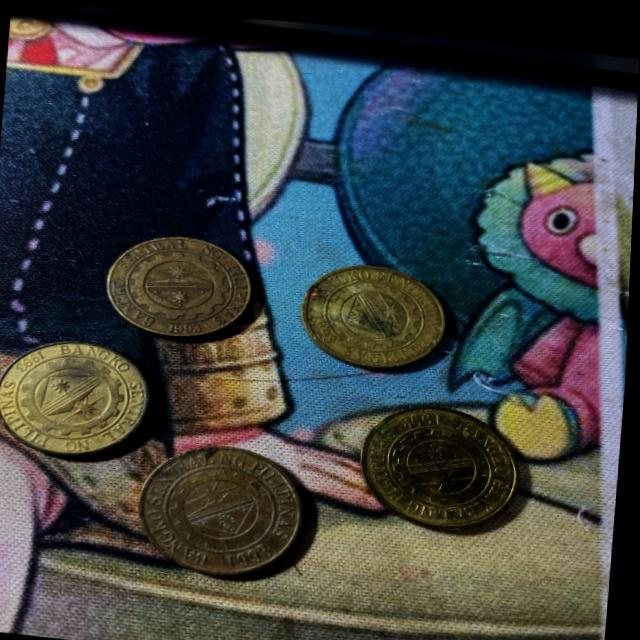25Cent_Old_Back: (359, 389, 526, 522), (149, 437, 301, 573), (0, 333, 149, 468), (111, 230, 258, 336), (304, 256, 441, 363)
